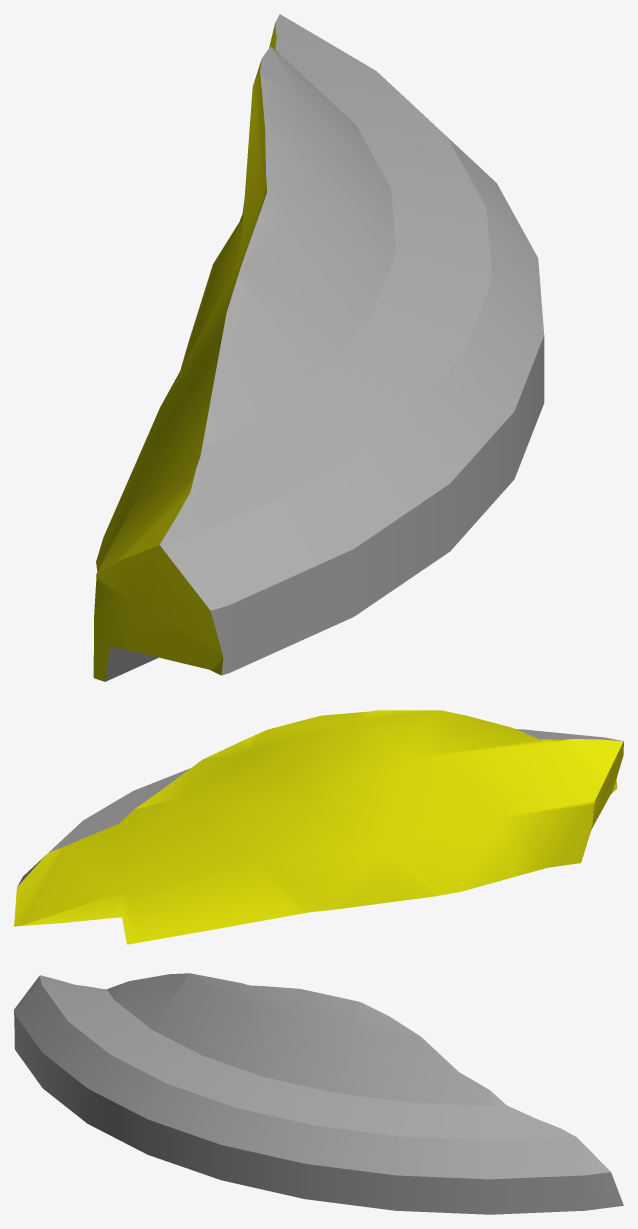
The model's file is target_shatter05.fbx.
3 views of the same model, one above another, from view 1: azimuth 30°, elevation 25°; view 2: azimuth 150°, elevation 25°; view 3: azimuth 270°, elevation 25° (orthographic). The views are drawn at different scales.
Parts seen in each view (by area): view 1: target2_shatter05; view 2: target2_shatter05; view 3: target2_shatter05.
Boxes of the visible parts, <box> form: target2_shatter05: <box>93,14,544,681</box>; target2_shatter05: <box>14,710,623,944</box>; target2_shatter05: <box>14,973,623,1214</box>.
Bounding box in the file's own units: 10.78 × 5 × 15.69.
